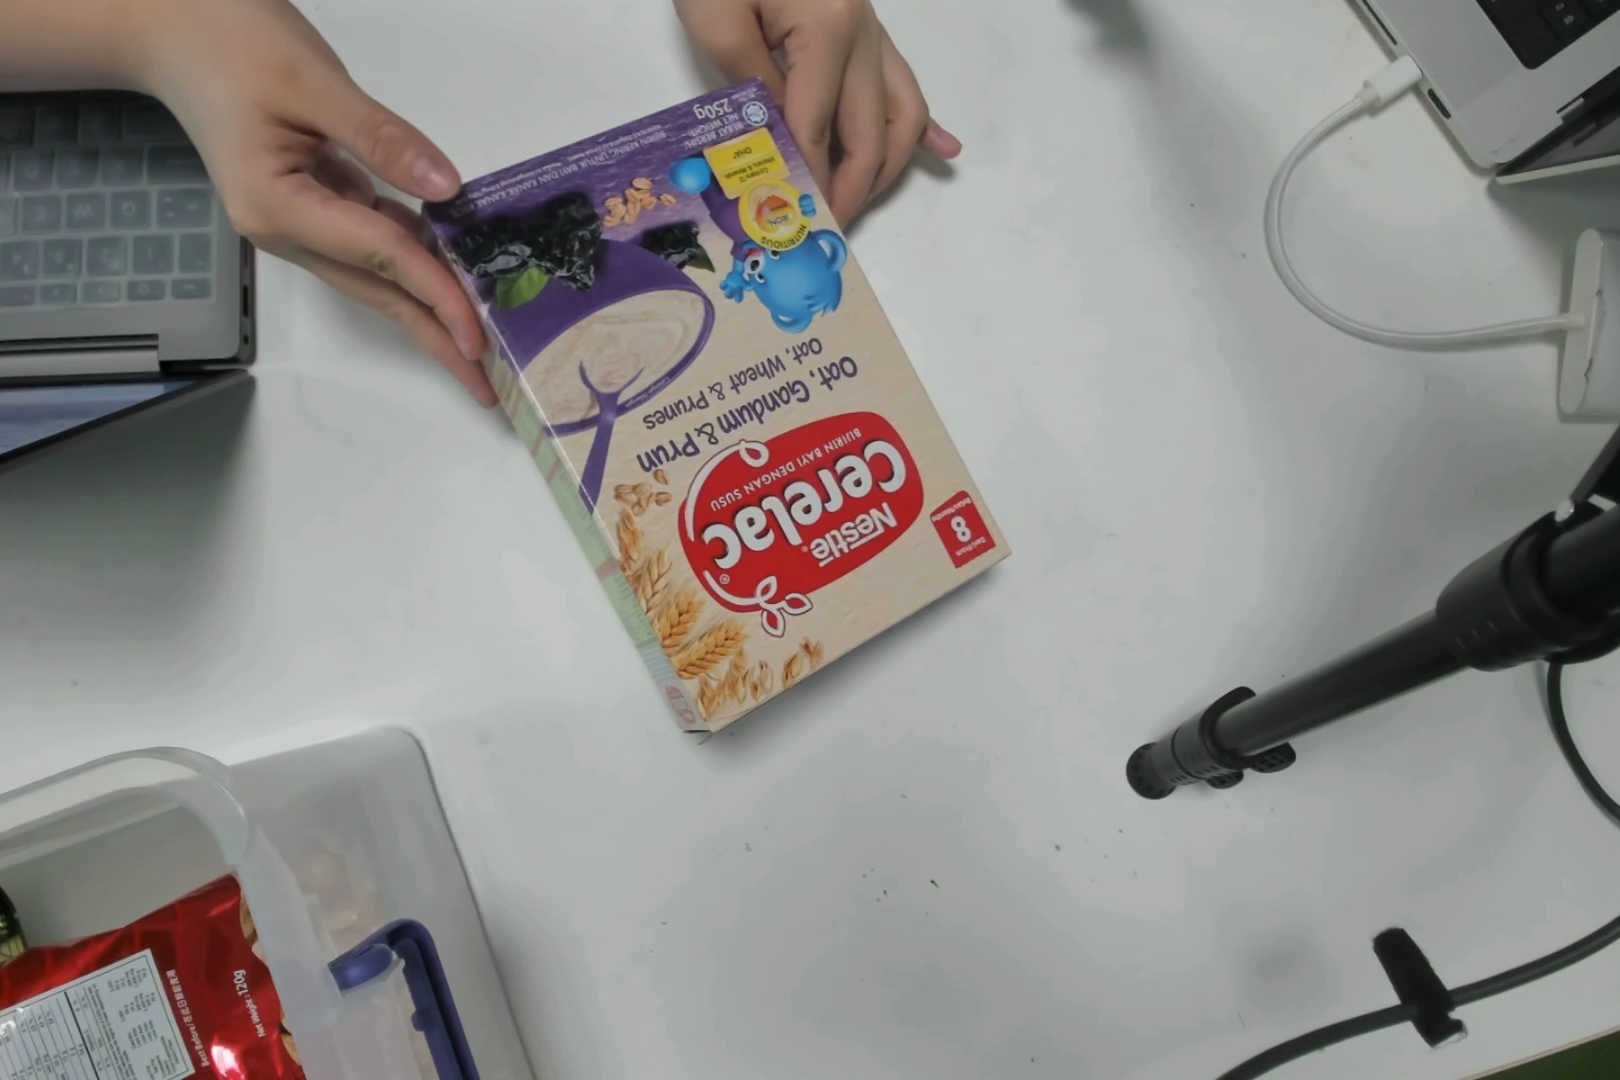d: (506, 104, 857, 710)
